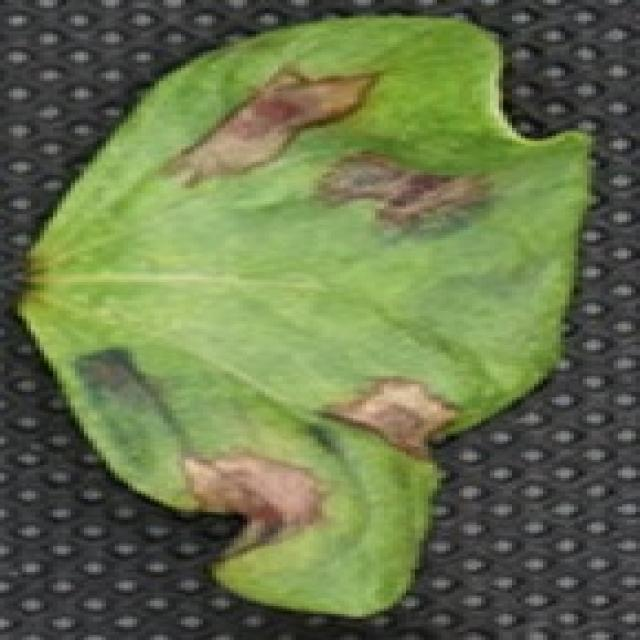Fusarium Wilt: (181, 68, 491, 222), (327, 374, 452, 440)
